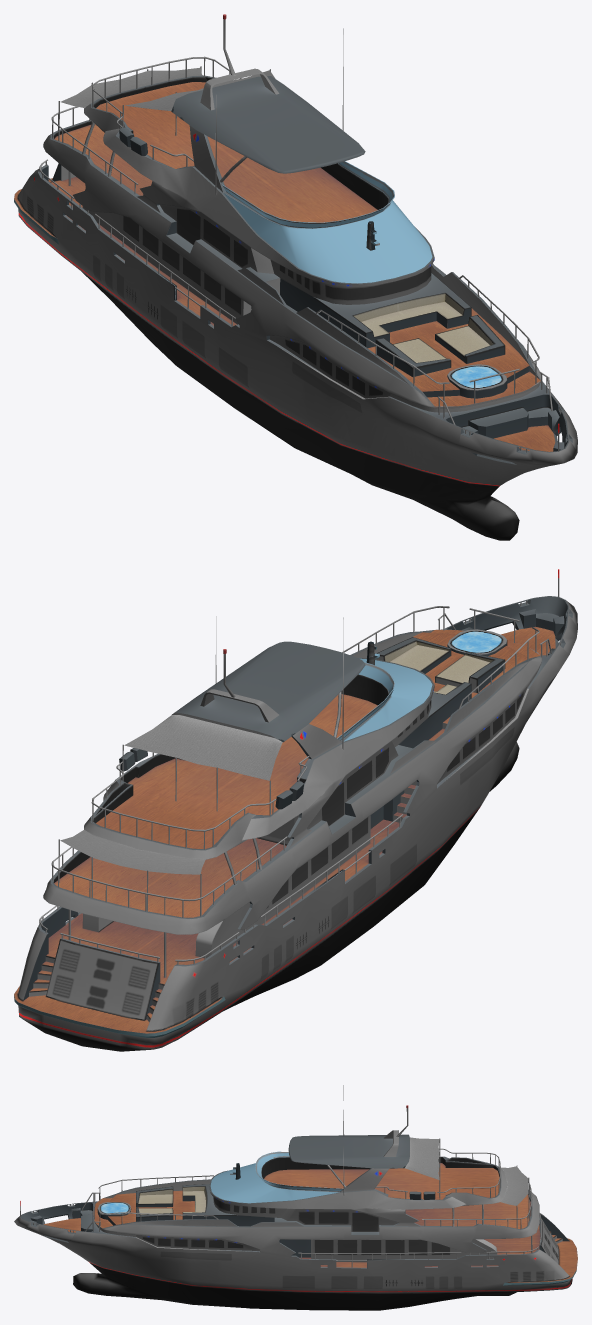
File: LuxuryYatch.fbx
3 renders of one model, top to bottom at view 1: azimuth 30°, elevation 25°; view 2: azimuth 150°, elevation 25°; view 3: azimuth 270°, elevation 25°, orthographic. The views are drawn at different scales.
Visible parts, largest first — view 1: Yacht; view 2: Yacht; view 3: Yacht.
Boxes of the visible parts, x1,y1,x2,y2 form: Yacht: (14, 14, 577, 540); Yacht: (14, 569, 577, 1051); Yacht: (14, 1085, 577, 1310).
Bounding box in the file's own units: 917 × 1761 × 4511.
Materials: 1 (1 with a texture image).
